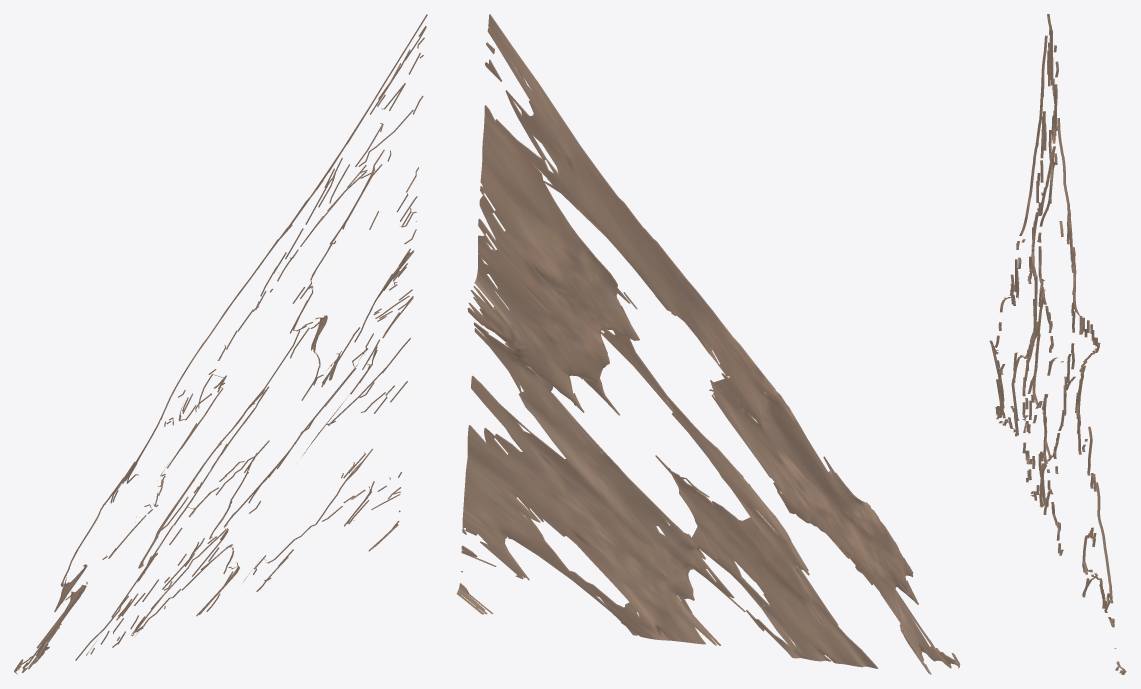
3 renders of one model, left to right at view 1: azimuth 30°, elevation 25°; view 2: azimuth 150°, elevation 25°; view 3: azimuth 270°, elevation 25°, orthographic. The views are drawn at different scales.
Size of the model in its own units: 15.33 by 18.59 by 3.44.
Materials: 1 (1 with a texture image).
